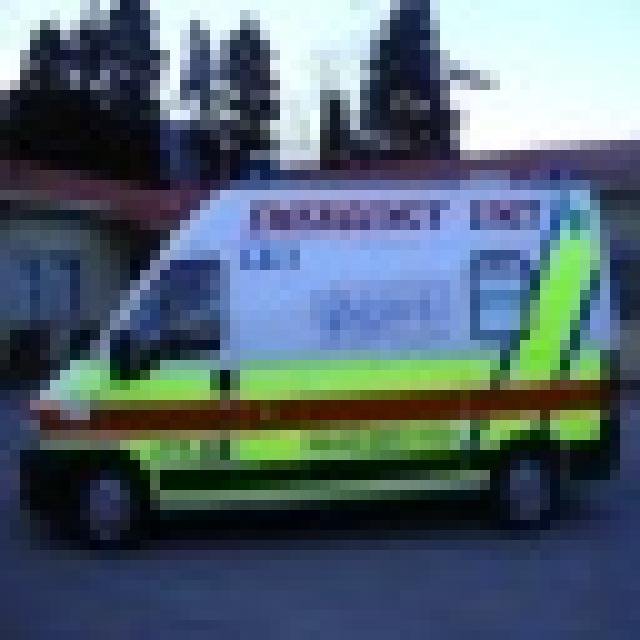Ambulance: (10, 160, 620, 540)
